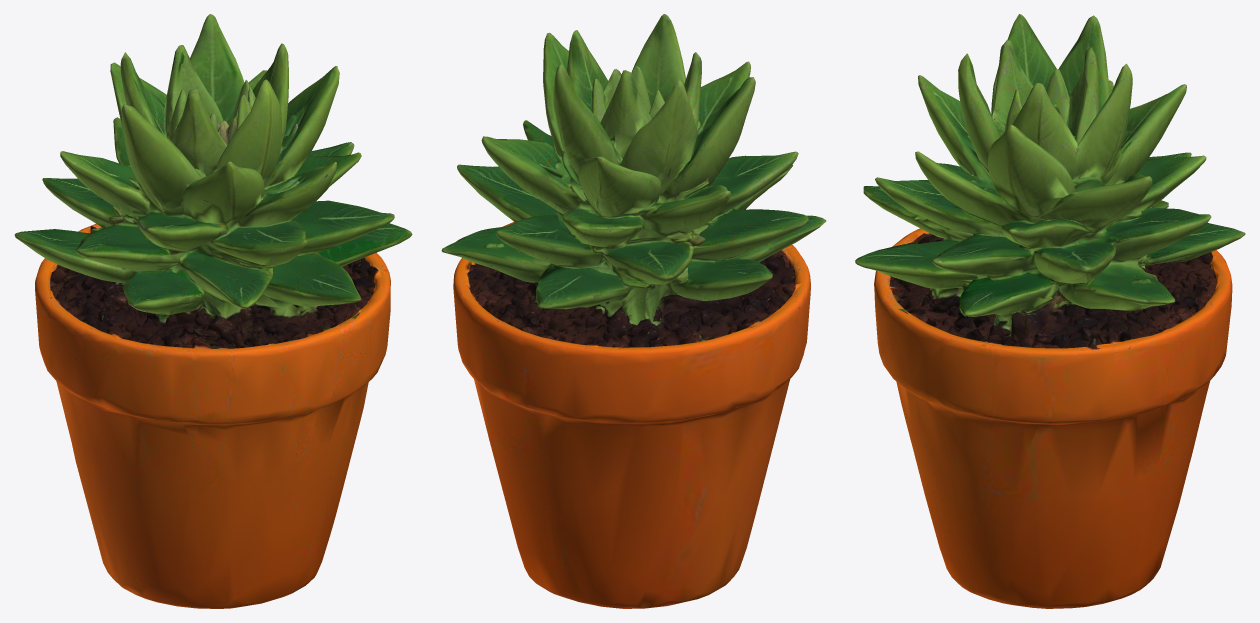
Rendered from potted_succulent.glb.
3 renders of one model, left to right at view 1: azimuth 30°, elevation 25°; view 2: azimuth 150°, elevation 25°; view 3: azimuth 270°, elevation 25°, orthographic.
Parts seen in each view (by area): view 1: mesh_node; view 2: mesh_node; view 3: mesh_node.
Part boxes in pixels (<box>): mesh_node: <box>14,14,412,608</box>; mesh_node: <box>441,14,826,608</box>; mesh_node: <box>855,14,1245,608</box>.
Size of the model in its own units: 1.26 by 1.9 by 1.3.
Materials: 1 (1 with a texture image).
